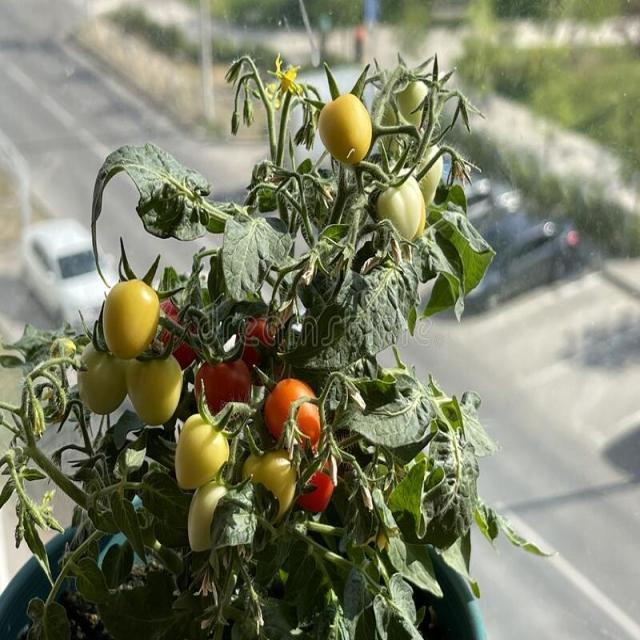sari: (250, 386, 350, 460)
yesil: (94, 290, 230, 496), (322, 92, 382, 184)
